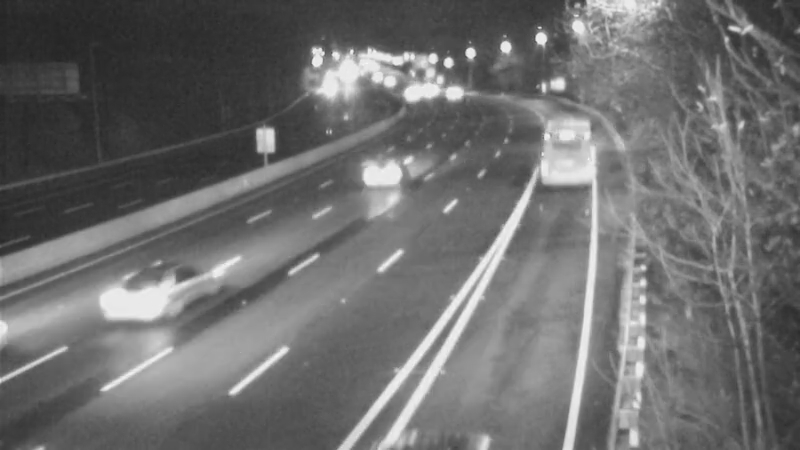vehicle: (82, 248, 192, 358), (526, 112, 606, 192), (345, 127, 425, 207), (366, 54, 416, 104), (345, 51, 395, 101), (410, 65, 460, 115), (383, 66, 433, 116), (430, 66, 480, 116)
